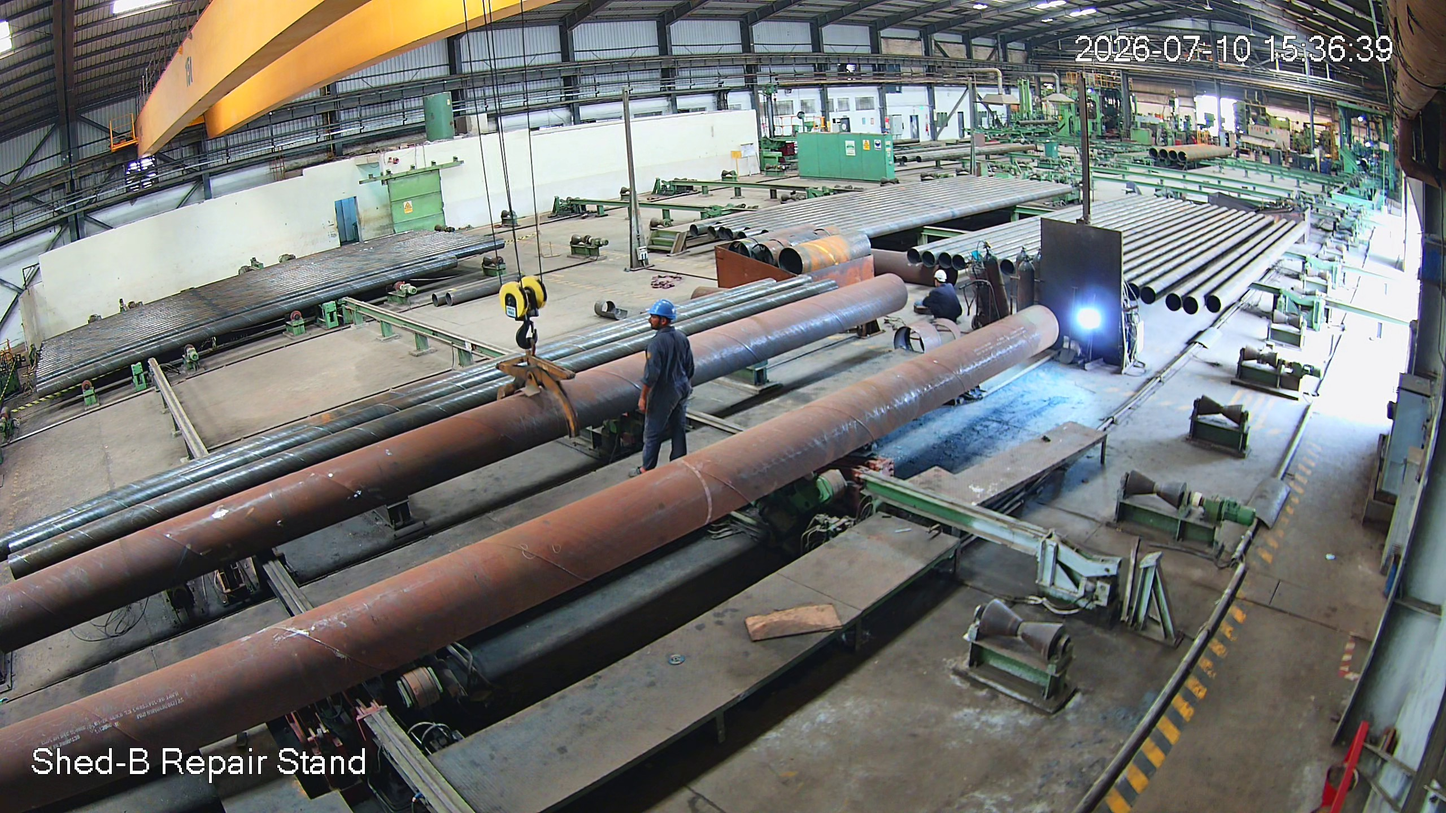Helmet: (645, 295, 687, 345), (934, 263, 953, 294)
Person: (633, 300, 690, 468), (923, 267, 961, 327)
